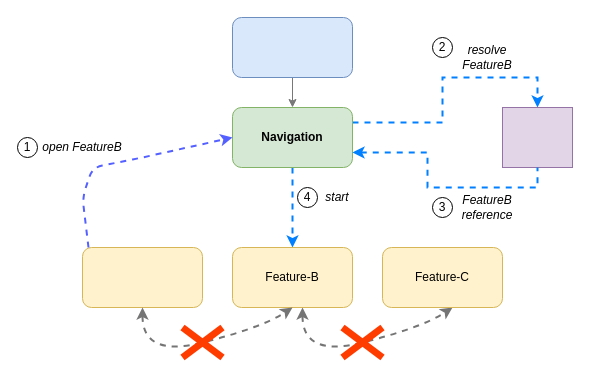
Image size: 590x379. Some labels were removed from this diagram. Each missing label, with the centre of its shape:
App: the point at 292,47
Feature-A: the point at 142,277
FlowNav: the point at 537,137
